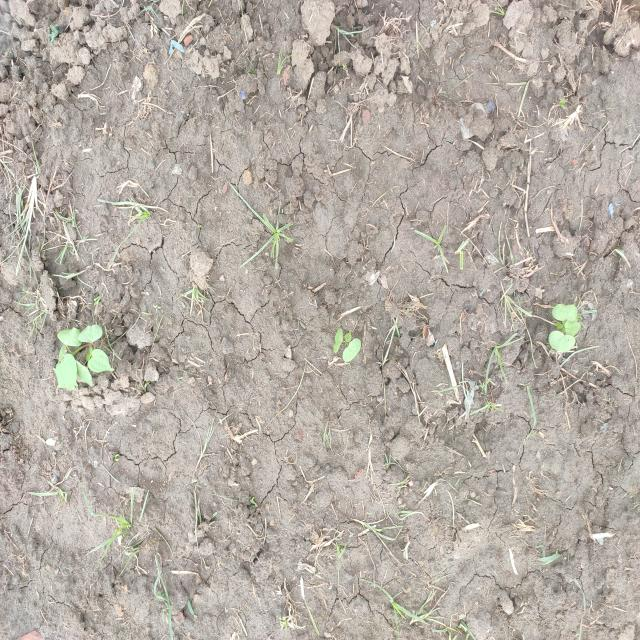seedling_s4: (55, 353, 78, 387), (88, 349, 115, 373), (548, 331, 575, 352), (78, 324, 103, 343), (57, 327, 82, 346), (76, 360, 92, 387), (343, 338, 361, 362), (552, 304, 577, 321), (565, 317, 581, 337), (334, 328, 343, 353), (344, 331, 352, 343)
